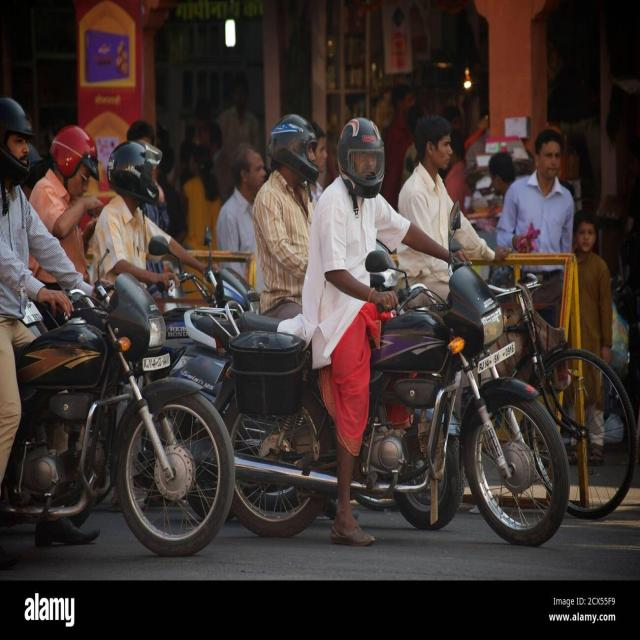motorcycle: (208, 117, 569, 546), (0, 99, 235, 556)
